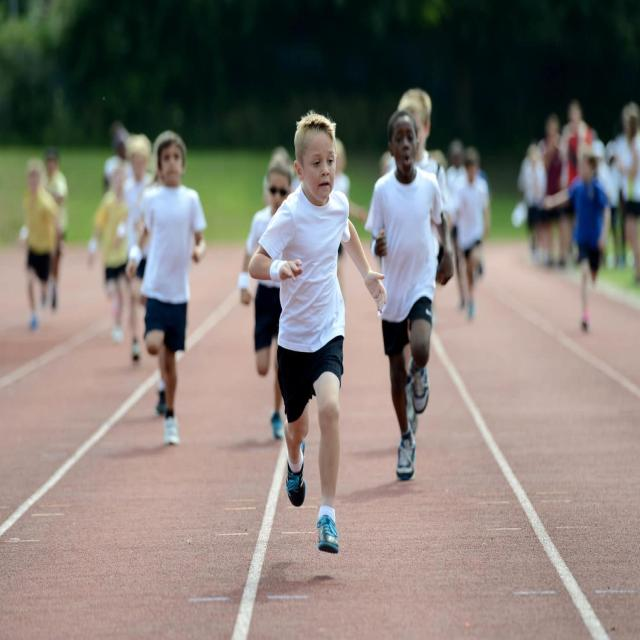Person: (249, 112, 386, 555), (366, 112, 454, 481), (126, 132, 208, 442), (238, 146, 289, 444), (540, 152, 614, 337), (18, 158, 61, 334)
